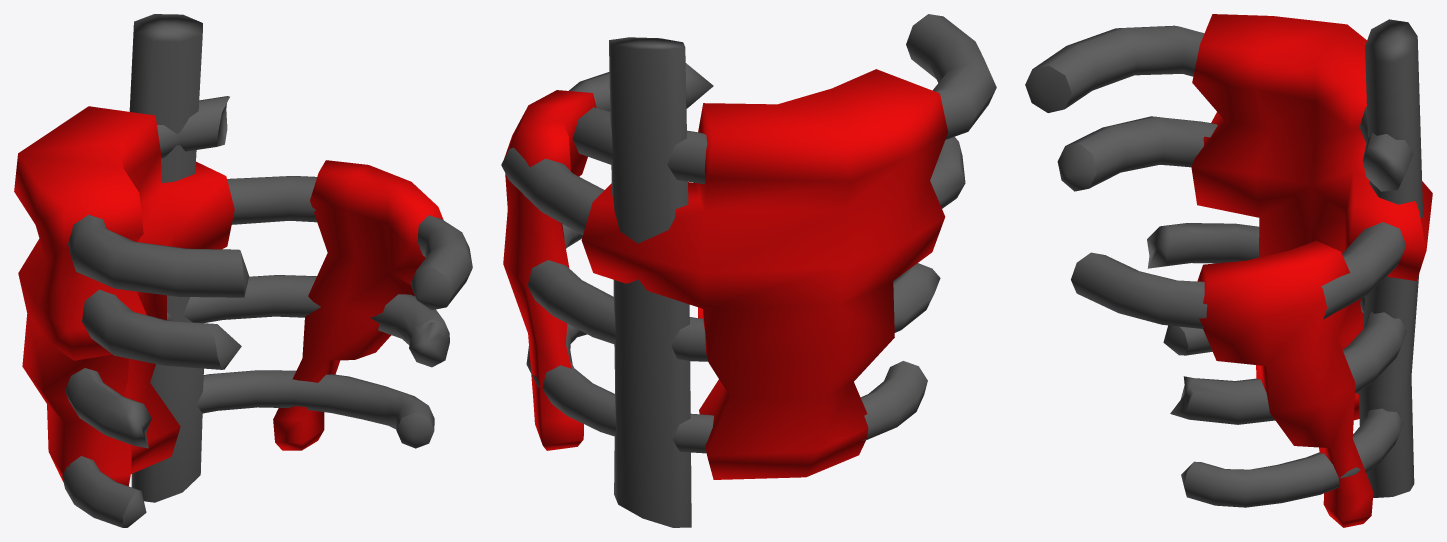
Rendered from RibCage.fbx.
3 renders of one model, left to right at view 1: azimuth 30°, elevation 25°; view 2: azimuth 150°, elevation 25°; view 3: azimuth 270°, elevation 25°, orthographic. The views are drawn at different scales.
Parts seen in each view (by area): view 1: polySurface32; view 2: polySurface32; view 3: polySurface32.
Boxes of the visible parts, left/top/right/bottom form: polySurface32: left=14, top=14, right=472, bottom=527; polySurface32: left=501, top=14, right=996, bottom=527; polySurface32: left=1025, top=14, right=1432, bottom=527.
Bounding box in the file's own units: 4.19 × 4.66 × 3.7.
